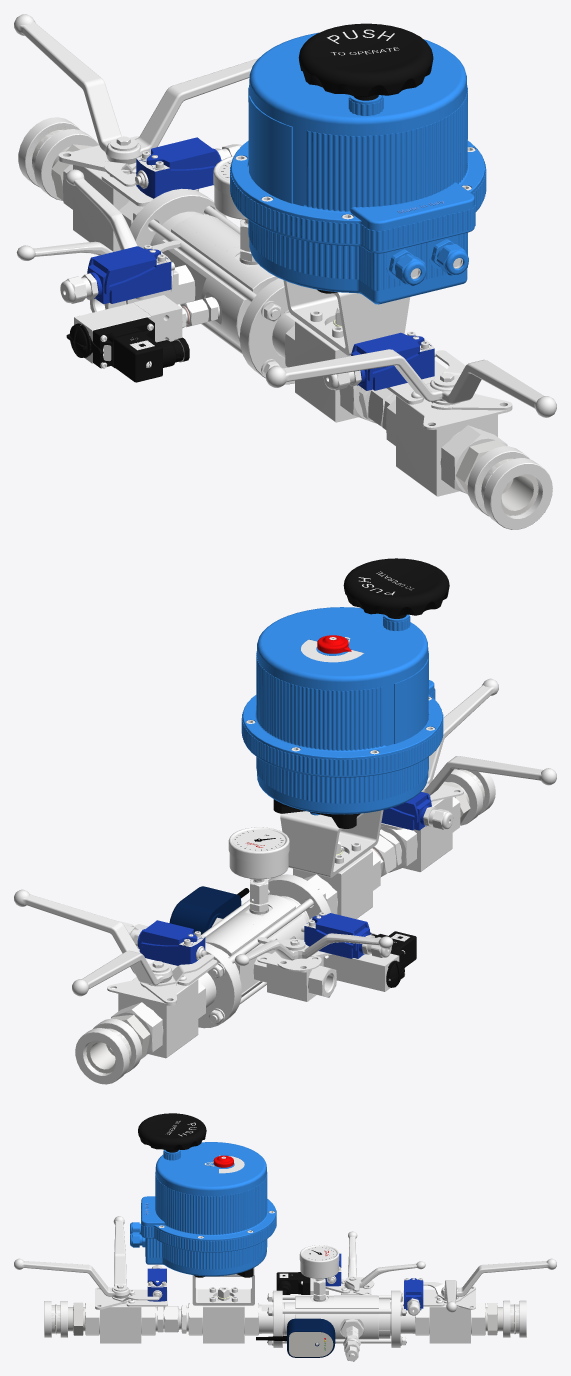
File: section valve.glb
The picture shows the model from 3 angles, top to bottom: view 1: azimuth 30°, elevation 25°; view 2: azimuth 150°, elevation 25°; view 3: azimuth 270°, elevation 25°; orthographic projection. The views are drawn at different scales.
Parts seen in each view (by area): view 1: Solid2.008, Solid1.072, Solid1.059, Solid1.047, Solid1.015, Solid3.002, Solid1.058, Solid2.001, Solid1.078, Solid1.004, Solid2.002, Solid2.013 (+17 smaller); view 2: Solid2.008, Solid1.047, Solid1, Solid1.058, Solid1.072, Solid2.024, Solid1.015, Solid1.059, Solid3, Solid1.073, Solid1.004, Solid12 (+15 smaller); view 3: Solid2.008, Solid1.058, Solid1.059, Solid1, Solid1.015, Solid12, Solid2.024, Solid2.012, Solid1.047, Solid2.001, Solid2.013, Solid1.072 (+18 smaller).
Boxes of the visible parts, bbox=[...] form: Solid2.008: bbox=[230, 23, 486, 304]; Solid1.072: bbox=[66, 295, 189, 382]; Solid1.059: bbox=[386, 393, 507, 496]; Solid1.047: bbox=[283, 280, 410, 355]; Solid1.015: bbox=[161, 215, 278, 345]; Solid3.002: bbox=[467, 446, 552, 529]; Solid1.058: bbox=[285, 306, 376, 423]; Solid2.001: bbox=[14, 14, 140, 164]; Solid1.078: bbox=[87, 246, 171, 304]; Solid1.004: bbox=[136, 137, 221, 198]; Solid2.002: bbox=[106, 58, 258, 164]; Solid2.013: bbox=[266, 349, 453, 401]; Solid2.008: bbox=[241, 558, 449, 828]; Solid1.047: bbox=[280, 810, 383, 877]; Solid1: bbox=[111, 977, 206, 1058]; Solid1.058: bbox=[293, 839, 380, 918]; Solid1.072: bbox=[323, 931, 416, 991]; Solid2.024: bbox=[228, 827, 289, 883]; Solid1.015: bbox=[205, 894, 305, 997]; Solid1.059: bbox=[380, 797, 460, 872]; Solid3: bbox=[75, 1018, 141, 1084]; Solid1.073: bbox=[253, 951, 336, 1001]; Solid1.004: bbox=[137, 920, 205, 965]; Solid12: bbox=[169, 886, 241, 934]; Solid2.008: bbox=[130, 1113, 276, 1277]; Solid1.058: bbox=[188, 1287, 258, 1343]; Solid1.059: bbox=[85, 1303, 155, 1343]; Solid1: bbox=[415, 1303, 485, 1343]; Solid1.015: bbox=[295, 1296, 378, 1339]; Solid12: bbox=[287, 1318, 335, 1357]; Solid2.024: bbox=[299, 1245, 339, 1281]; Solid2.012: bbox=[14, 1258, 129, 1298]; Solid1.047: bbox=[192, 1267, 254, 1305]; Solid2.001: bbox=[441, 1258, 556, 1296]; Solid2.013: bbox=[112, 1216, 129, 1298]; Solid1.072: bbox=[276, 1272, 328, 1294].
Bounding box in the file's own units: 0.3609 × 0.3736 × 0.8693.
